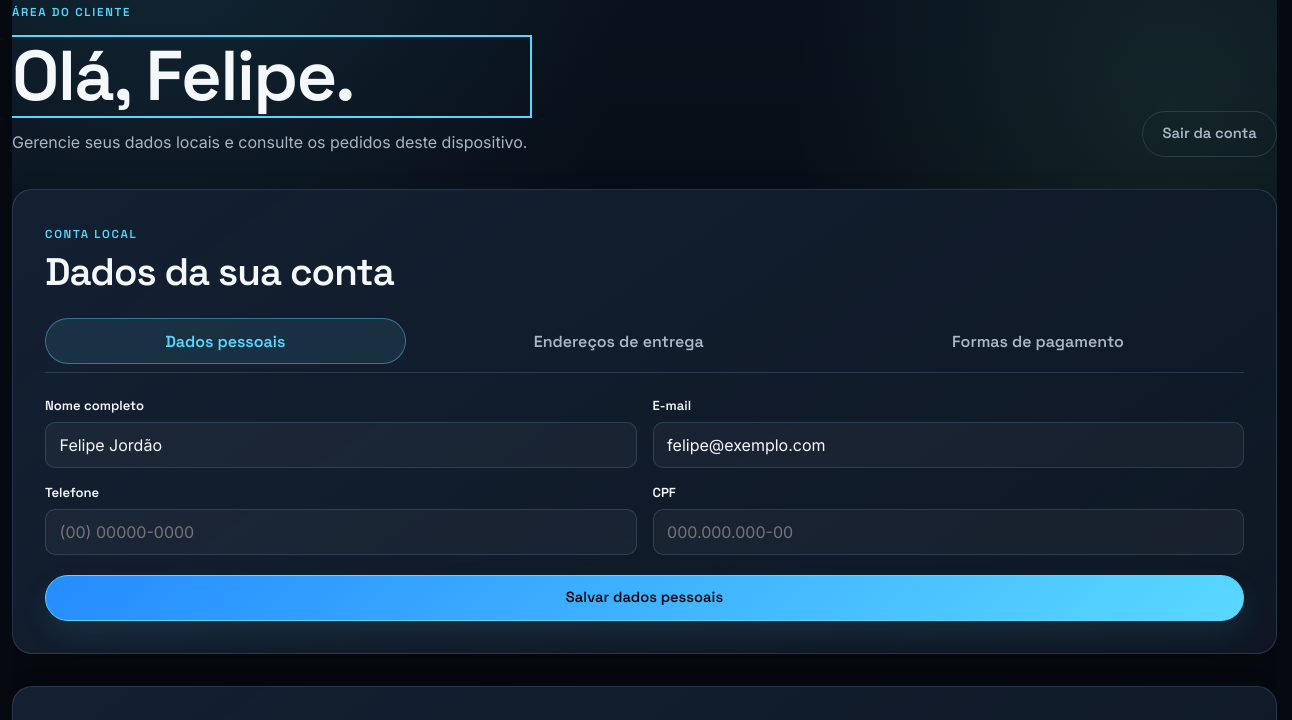
cadastro, login e área do cliente › encerra a sessão e retorna ao login sem apagar a conta
Click the button "Sair da conta" at (1210, 134), box top-left (1142, 111), bottom-right (1277, 157)
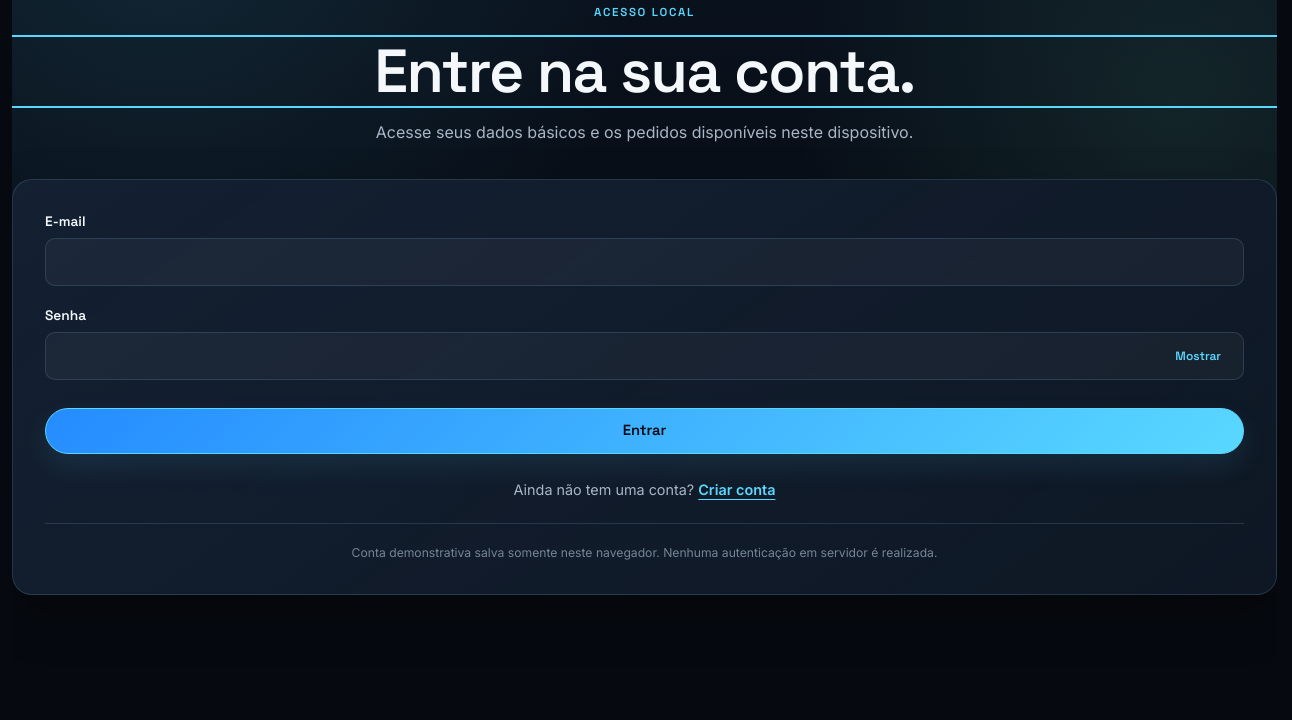
Result: the heading "Entre na sua conta." is shown at top-left (374, 32), bottom-right (915, 110)
